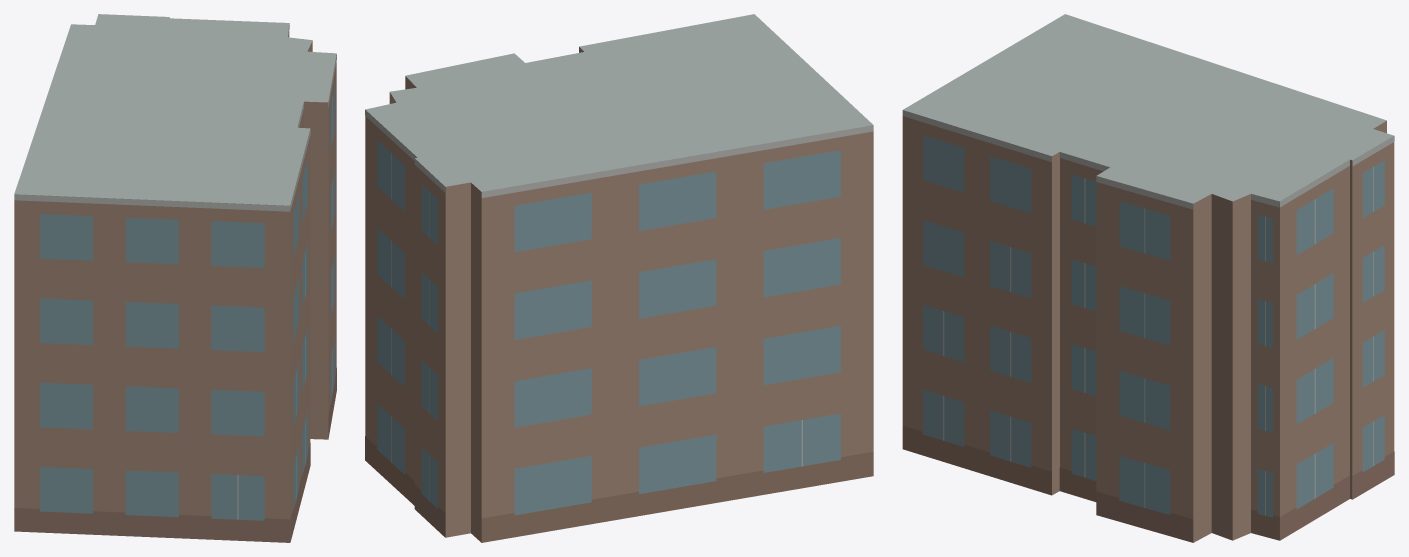
Rendered from survey-upis-32832212.glb.
3 renders of one model, left to right at view 1: azimuth 30°, elevation 25°; view 2: azimuth 150°, elevation 25°; view 3: azimuth 270°, elevation 25°, orthographic. The views are drawn at different scales.
Visible parts, largest first — view 1: survey-upis-32832212.tmp; view 2: survey-upis-32832212.tmp; view 3: survey-upis-32832212.tmp.
Boxes of the visible parts, x1,y1,x2,y2 form: survey-upis-32832212.tmp: [14, 14, 336, 542]; survey-upis-32832212.tmp: [365, 14, 873, 542]; survey-upis-32832212.tmp: [902, 14, 1394, 542].
Bounding box in the file's own units: 16.44 × 13.7 × 18.01.
